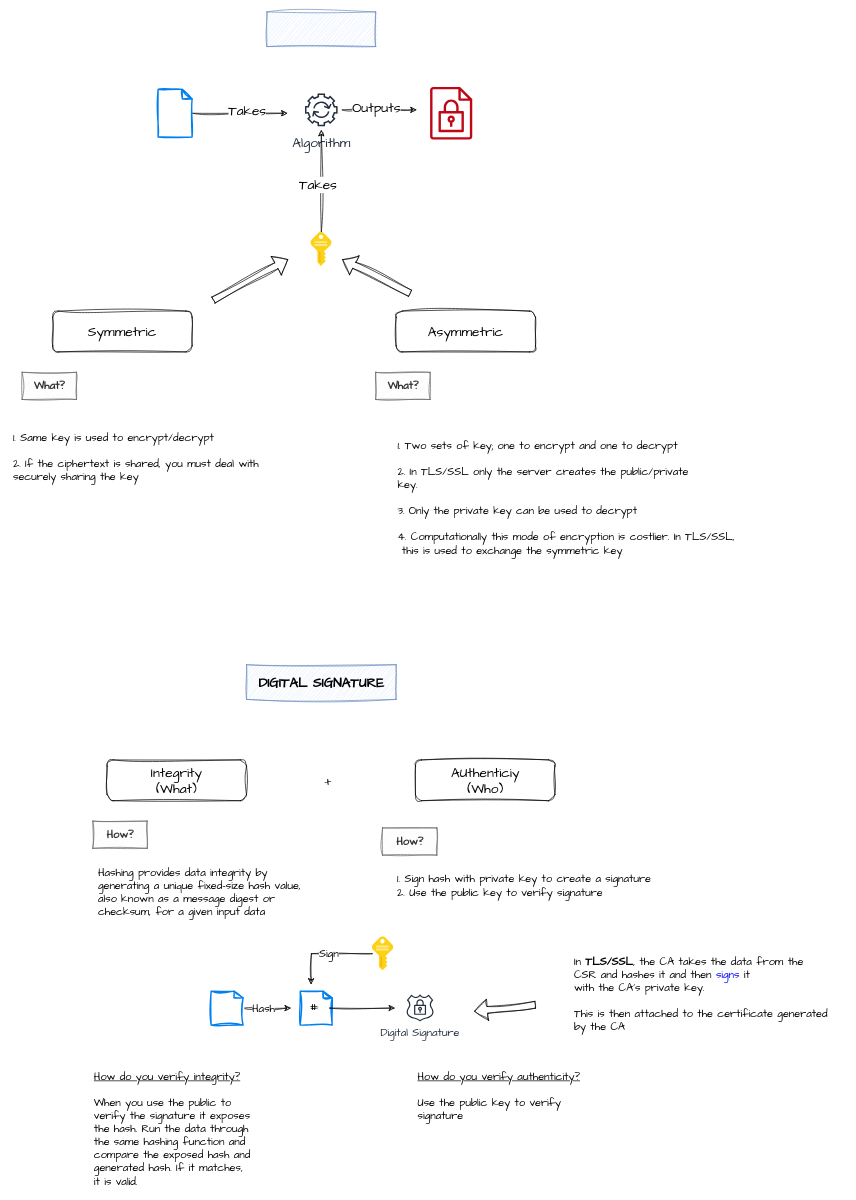
Some shapes in this 856 by 1200 pixel diagram are drawn without their labels. The centre of each missing label's shape, as x and y in pixels:
Ciphertext: point (451, 112)
Data: point (226, 1007)
ENCRYPTION: point (321, 29)
key: point (321, 249)
plaintext: point (174, 112)
